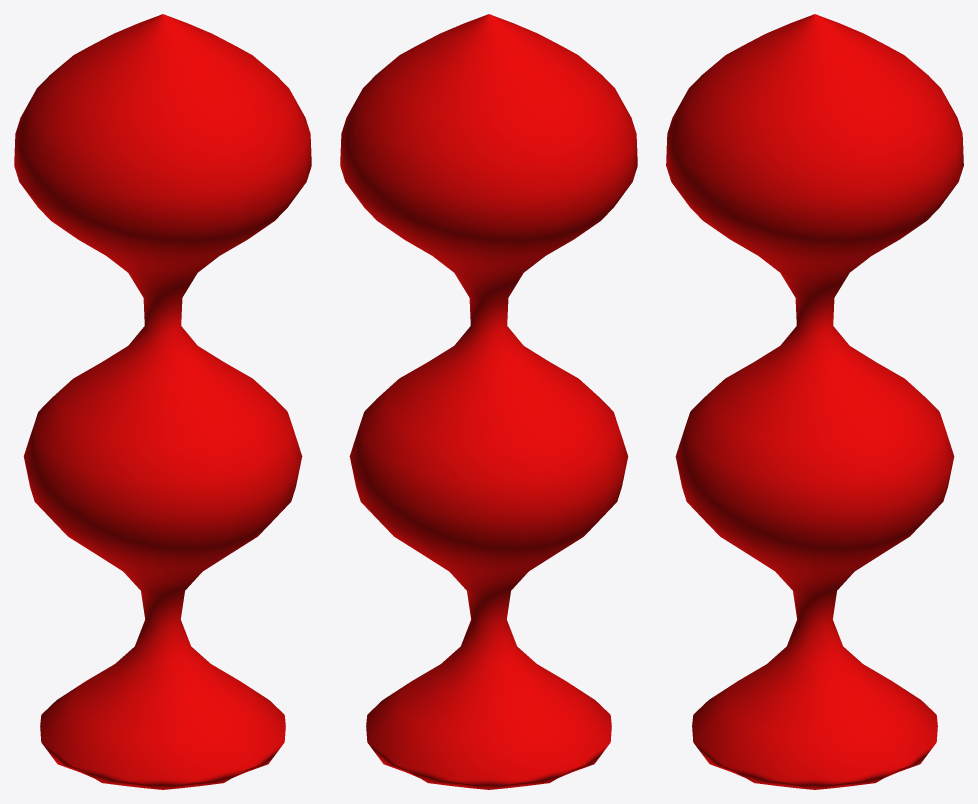
Rendered from RedVaseModel.fbx.
The picture shows the model from 3 angles, left to right: view 1: azimuth 30°, elevation 25°; view 2: azimuth 150°, elevation 25°; view 3: azimuth 270°, elevation 25°; orthographic projection.
Parts seen in each view (by area): view 1: nurbsToPoly1; view 2: nurbsToPoly1; view 3: nurbsToPoly1.
Boxes of the visible parts, box(x1,y1,x2,y2) form: nurbsToPoly1: box(14, 14, 311, 789); nurbsToPoly1: box(340, 14, 637, 789); nurbsToPoly1: box(666, 14, 963, 789).
Size of the model in its own units: 36.7 by 99.85 by 36.7.
